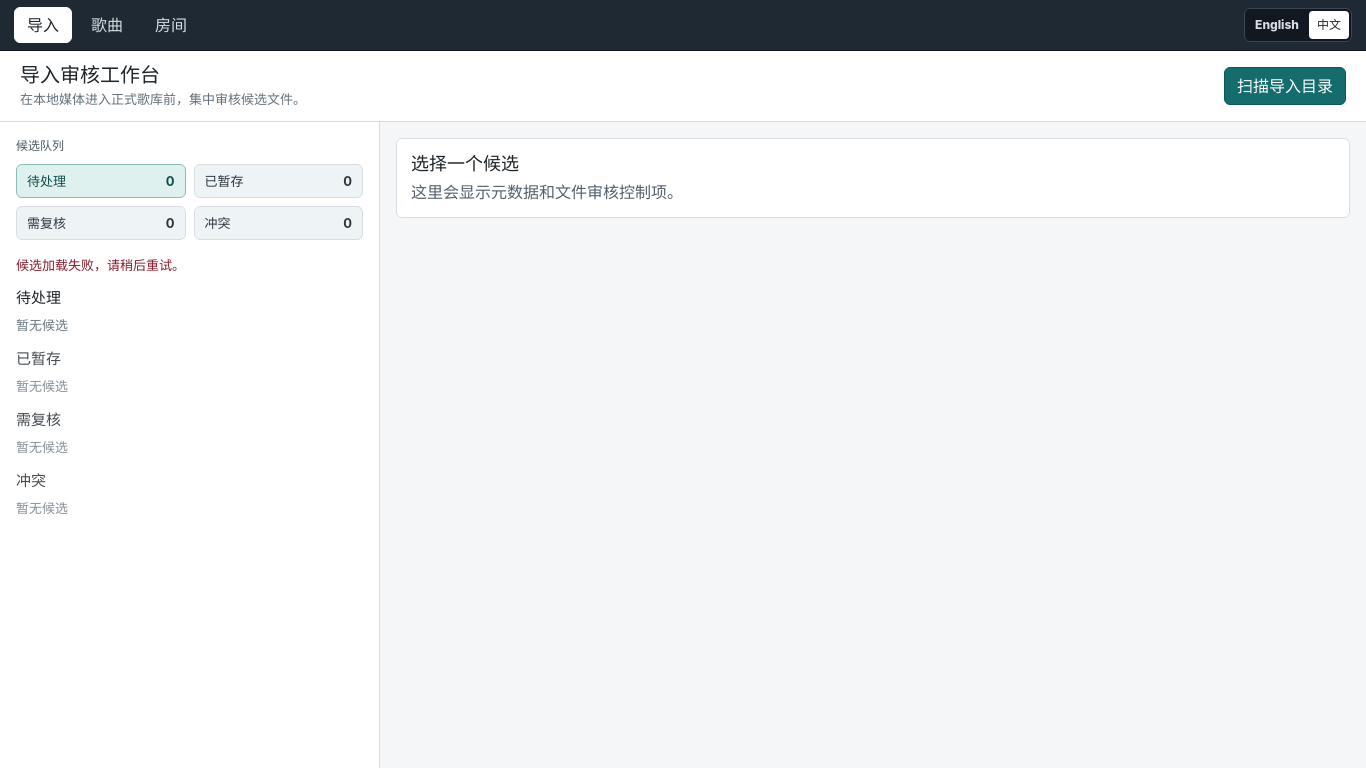
Test: room status view › switches the admin console chrome and active view to Chinese
Expected: the heading "导入审核工作台" is shown, [20, 63, 160, 87]
Click the button "English" at x=1277, y=25, box [1247, 11, 1307, 39]
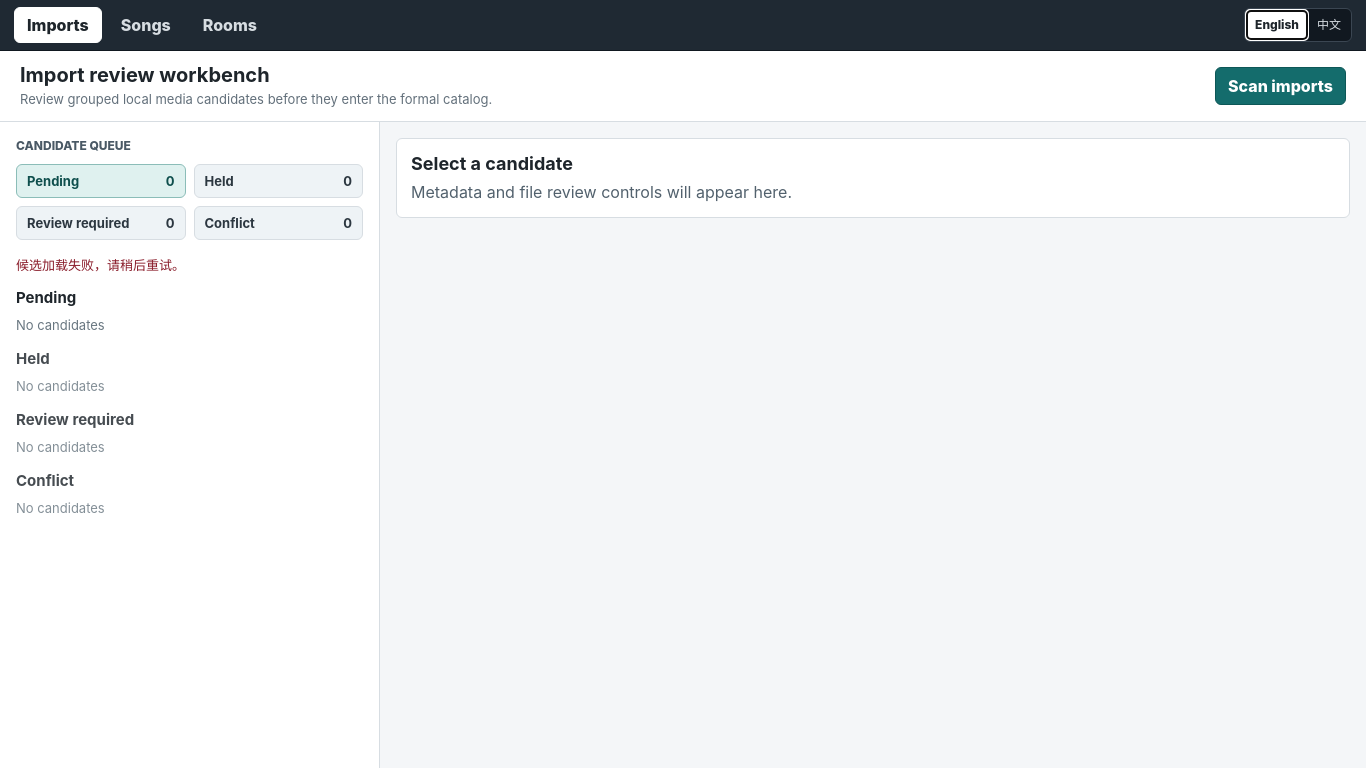
Expected: the heading "Import review workbench" is shown, [20, 63, 270, 87]
Expected: the button "Imports" is shown, [14, 7, 102, 43]
Expected: the button "Songs" is shown, [108, 7, 184, 43]
Click the button "中文" at x=1329, y=25, box [1309, 11, 1349, 39]
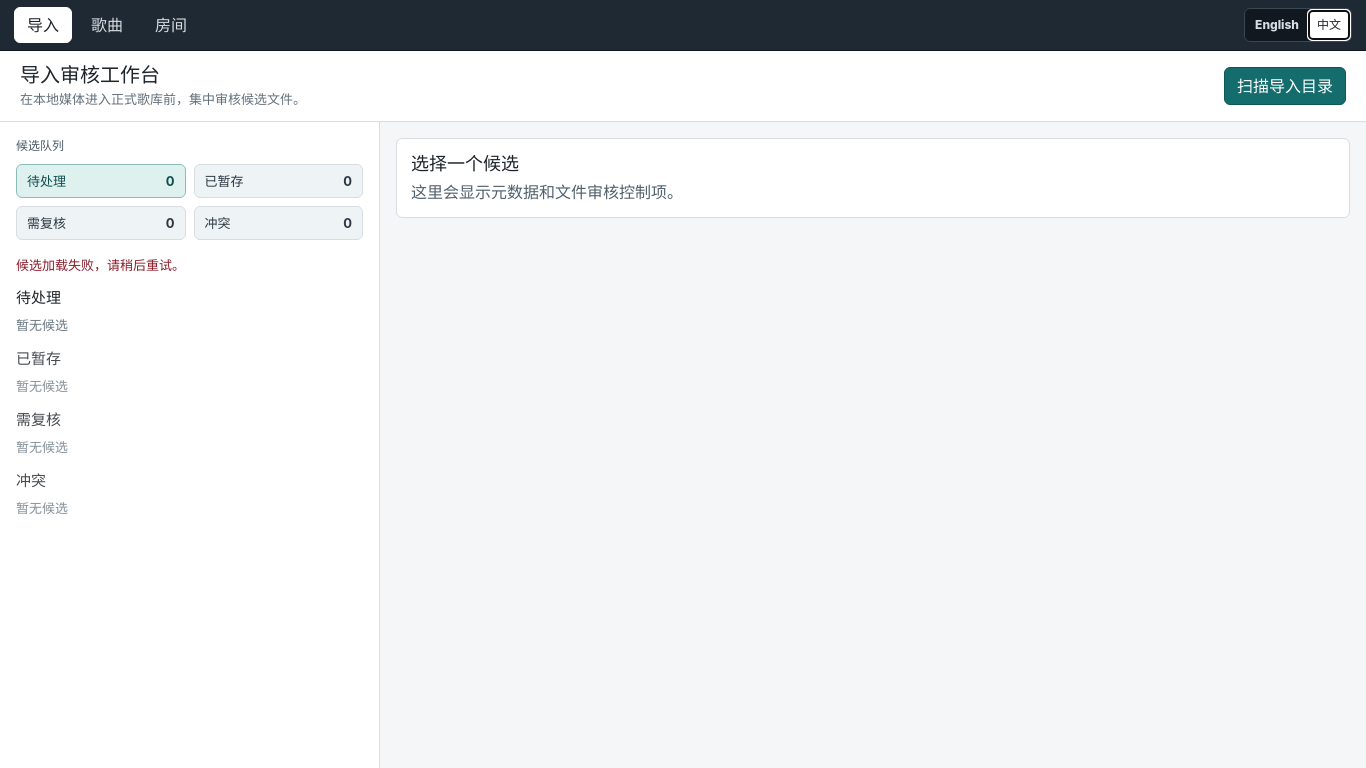
Expected: the heading "导入审核工作台" is shown, [20, 63, 160, 87]
Click the button "房间" at x=171, y=25, box [142, 7, 200, 43]
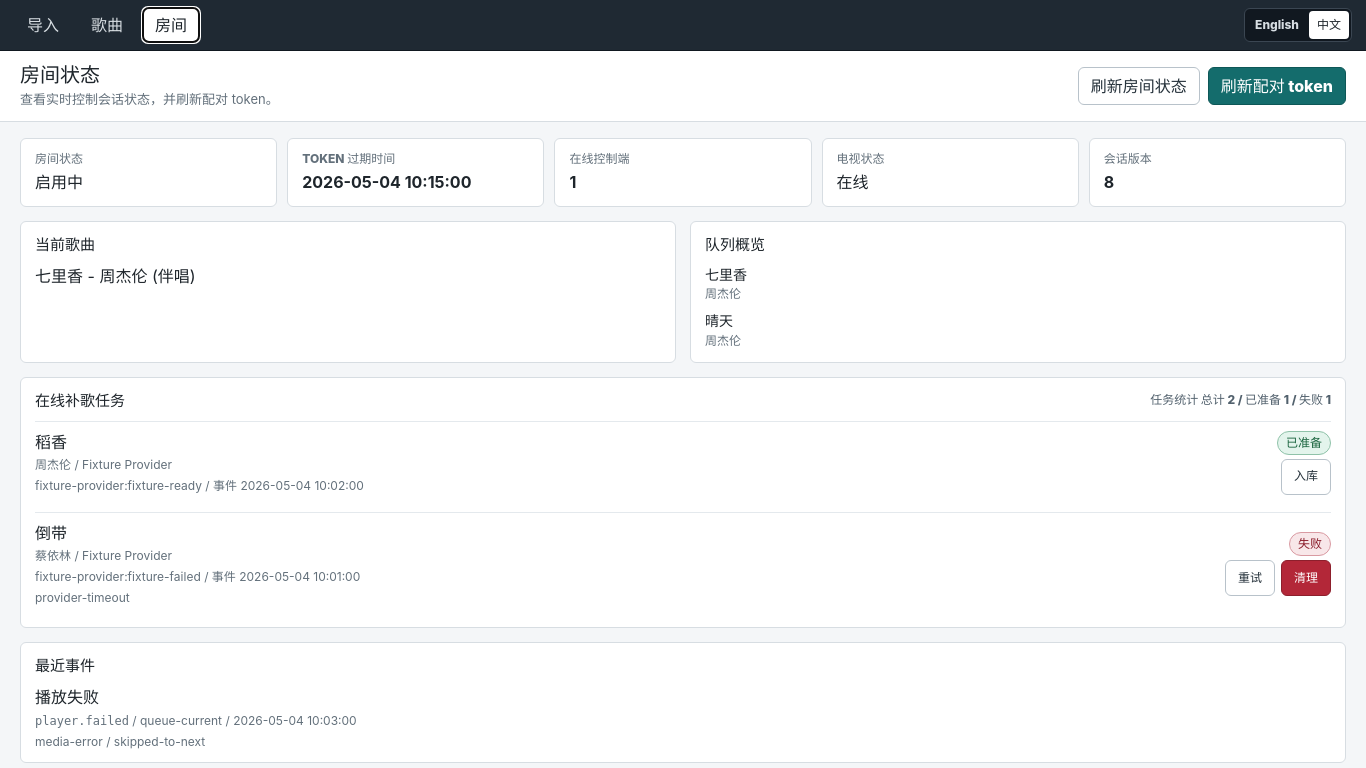
Expected: the heading "房间状态" is shown, [20, 63, 100, 87]
Expected: the button "刷新房间状态" is shown, [1078, 67, 1200, 105]
